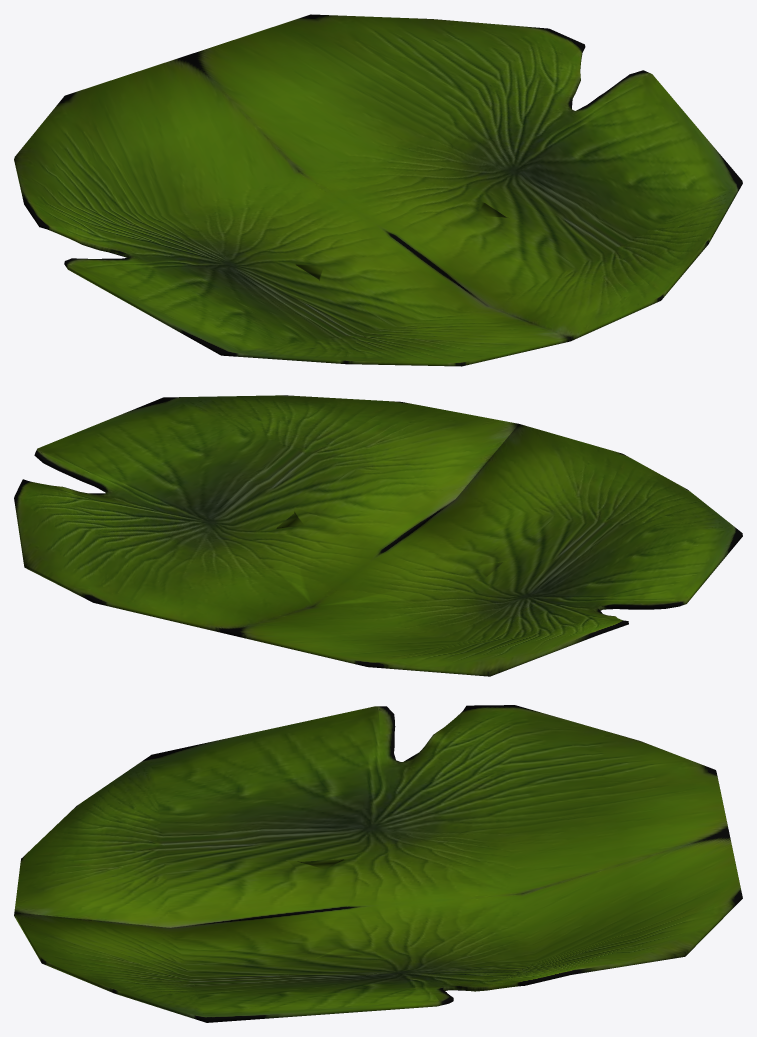
The model's file is leaf_attempt_one.fbx.
The picture shows the model from 3 angles, top to bottom: view 1: azimuth 30°, elevation 25°; view 2: azimuth 150°, elevation 25°; view 3: azimuth 270°, elevation 25°; orthographic projection. The views are drawn at different scales.
Parts seen in each view (by area): view 1: Leaf; view 2: Leaf; view 3: Leaf.
Part boxes in pixels (left/top/right/bottom): Leaf: left=14, top=14, right=742, bottom=366; Leaf: left=14, top=395, right=742, bottom=676; Leaf: left=14, top=705, right=742, bottom=1022.
Size of the model in its own units: 2.07 by 0.2691 by 1.99.
1 material, 1 textured.
